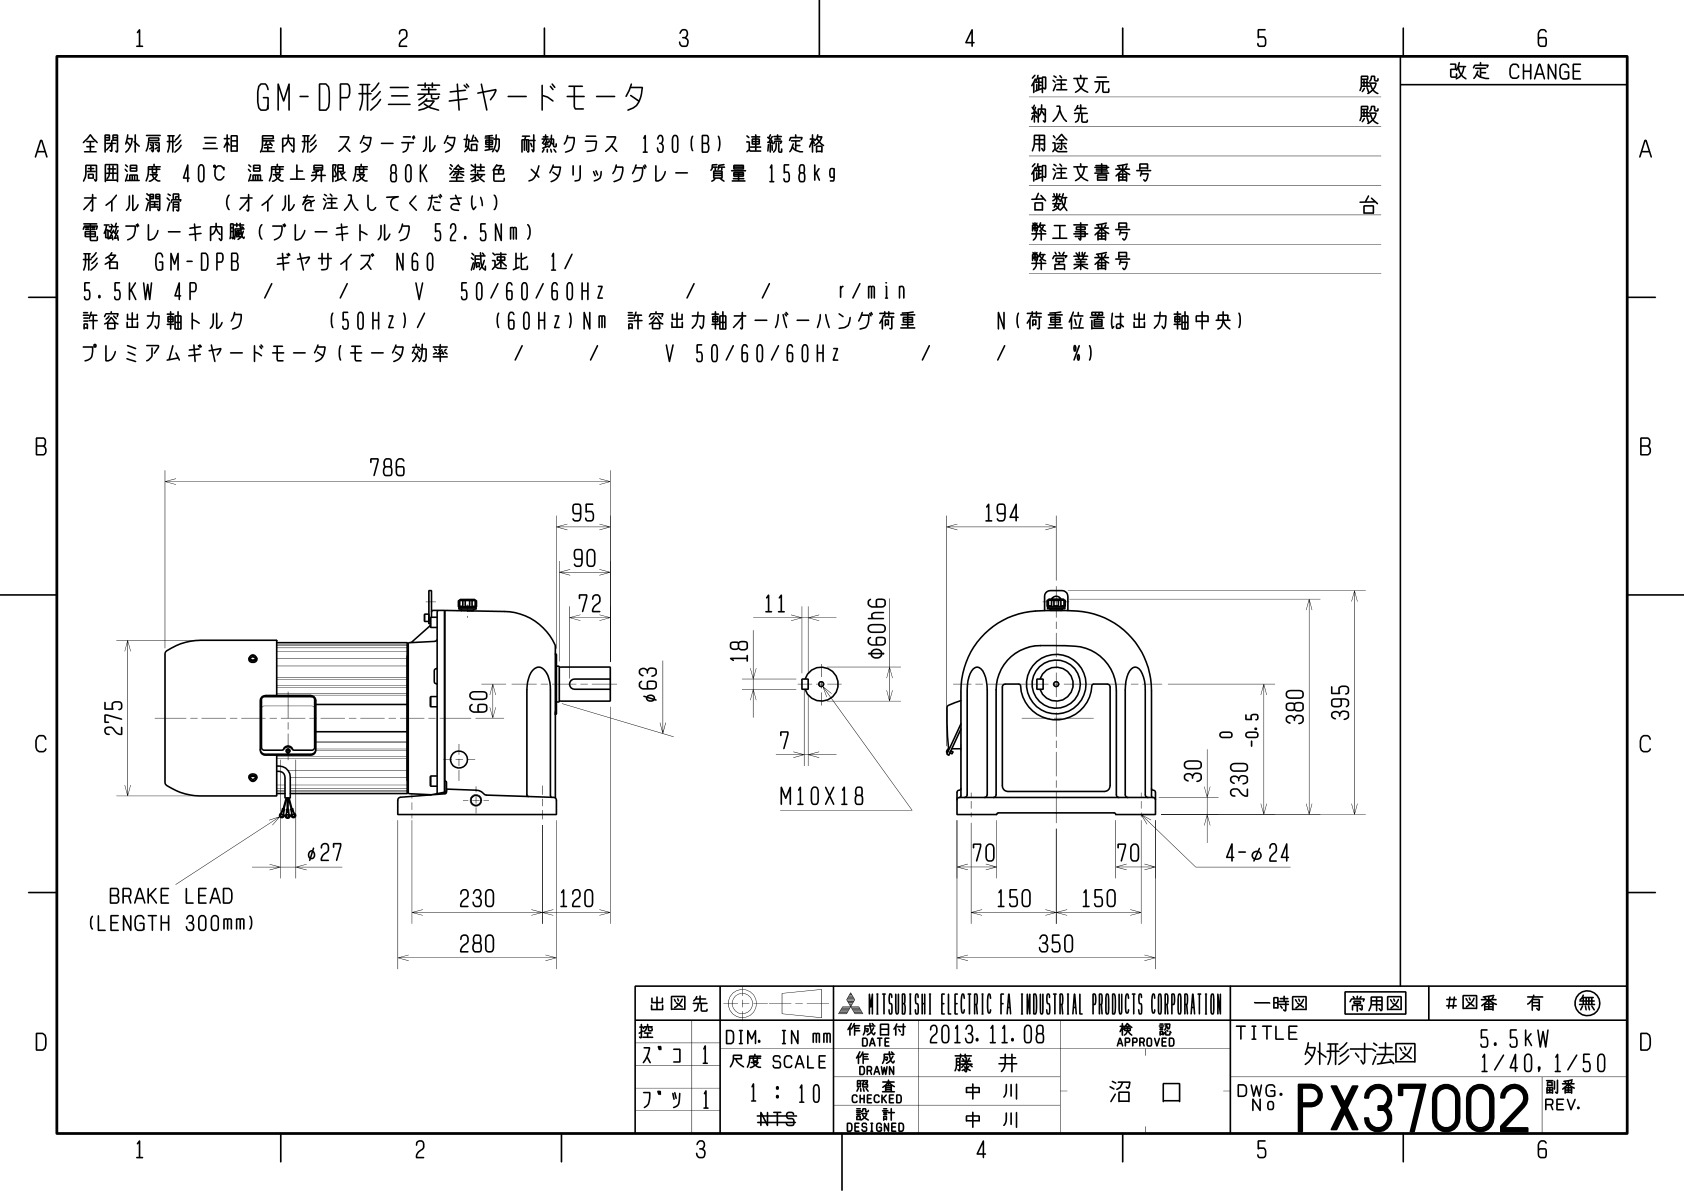GM_DP_屋内_三相_脚: (63, 409, 1377, 967)
